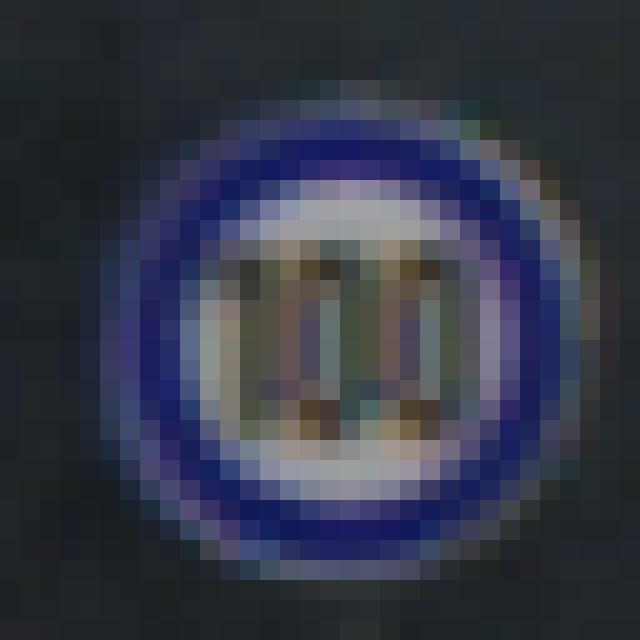SPEED LIMIT 100: (102, 88, 596, 590)
